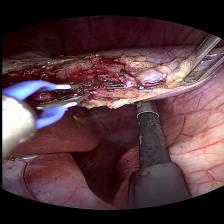Bipolar: (0, 72, 93, 136)
Grasper: (172, 34, 224, 86)
